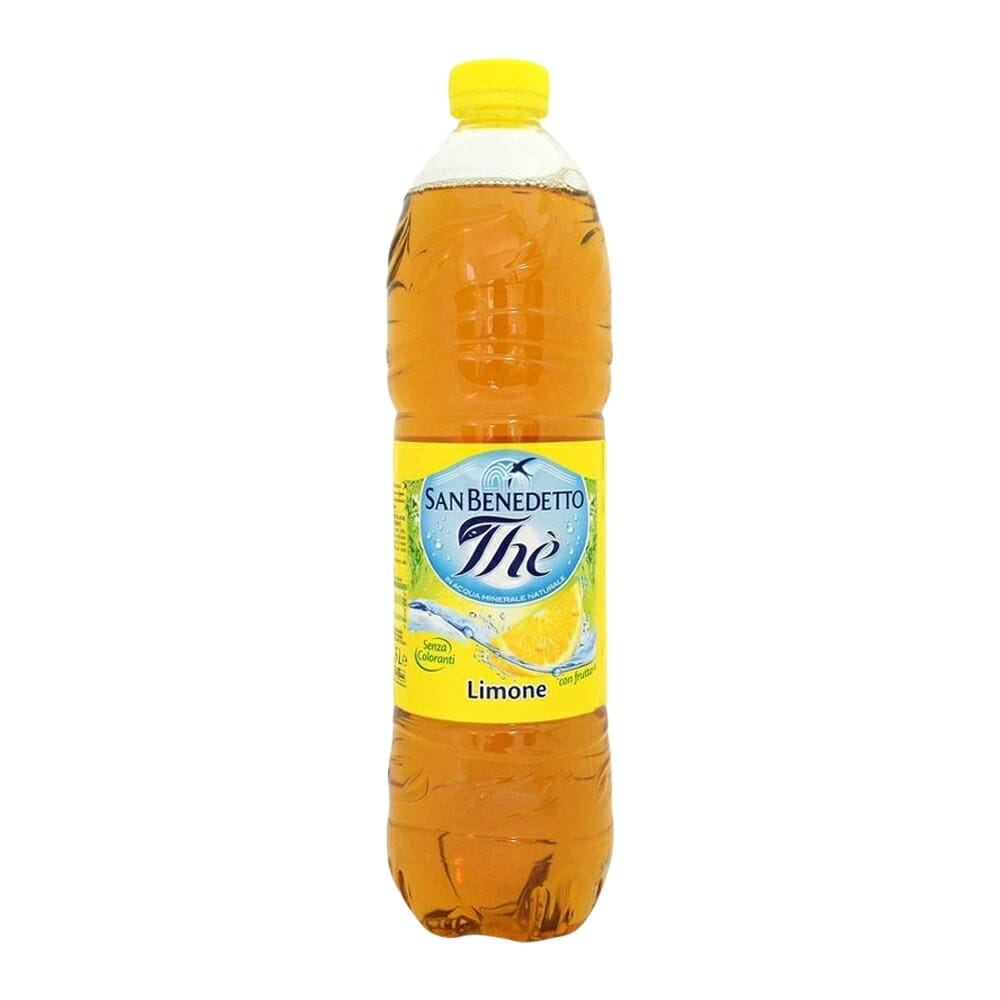PlasticBottle: (363, 45, 629, 948)
